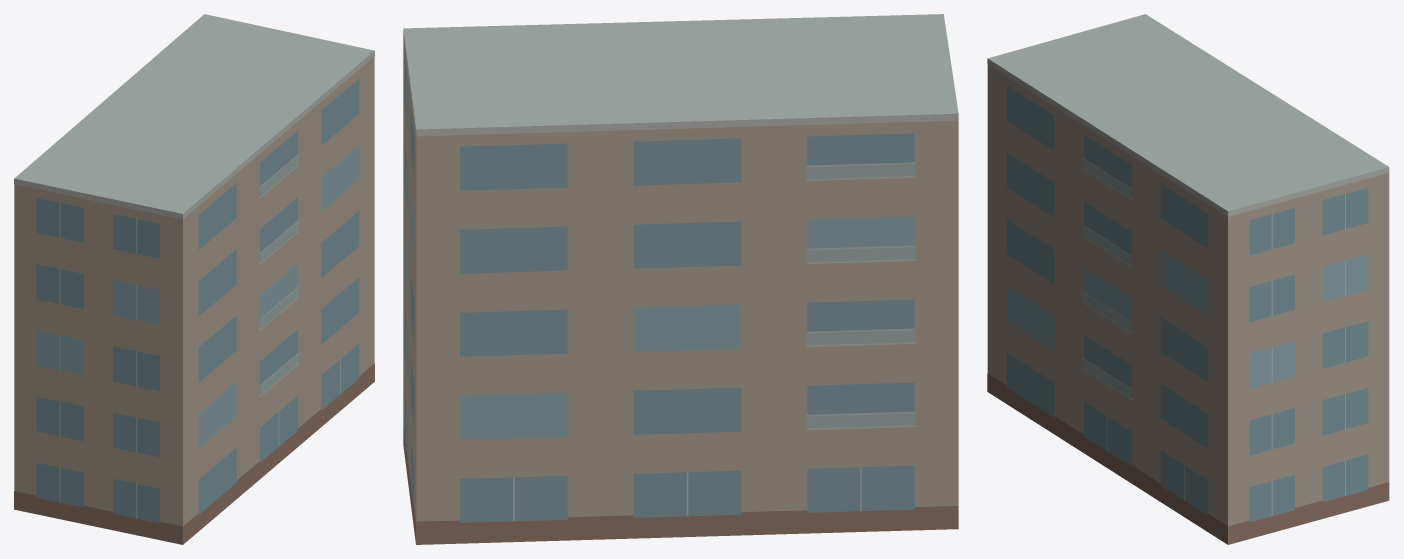
The model's file is survey-upis-32782123.glb.
The picture shows the model from 3 angles, left to right: view 1: azimuth 30°, elevation 25°; view 2: azimuth 150°, elevation 25°; view 3: azimuth 270°, elevation 25°; orthographic projection. The views are drawn at different scales.
Visible parts, largest first — view 1: survey-upis-32782123.tmp; view 2: survey-upis-32782123.tmp; view 3: survey-upis-32782123.tmp.
Part boxes in pixels (box(x1,y1,x2,y2)): survey-upis-32782123.tmp: box(14, 14, 374, 544); survey-upis-32782123.tmp: box(403, 14, 958, 544); survey-upis-32782123.tmp: box(987, 14, 1389, 544).
Size of the model in its own units: 18.61 by 14.65 by 16.01.
